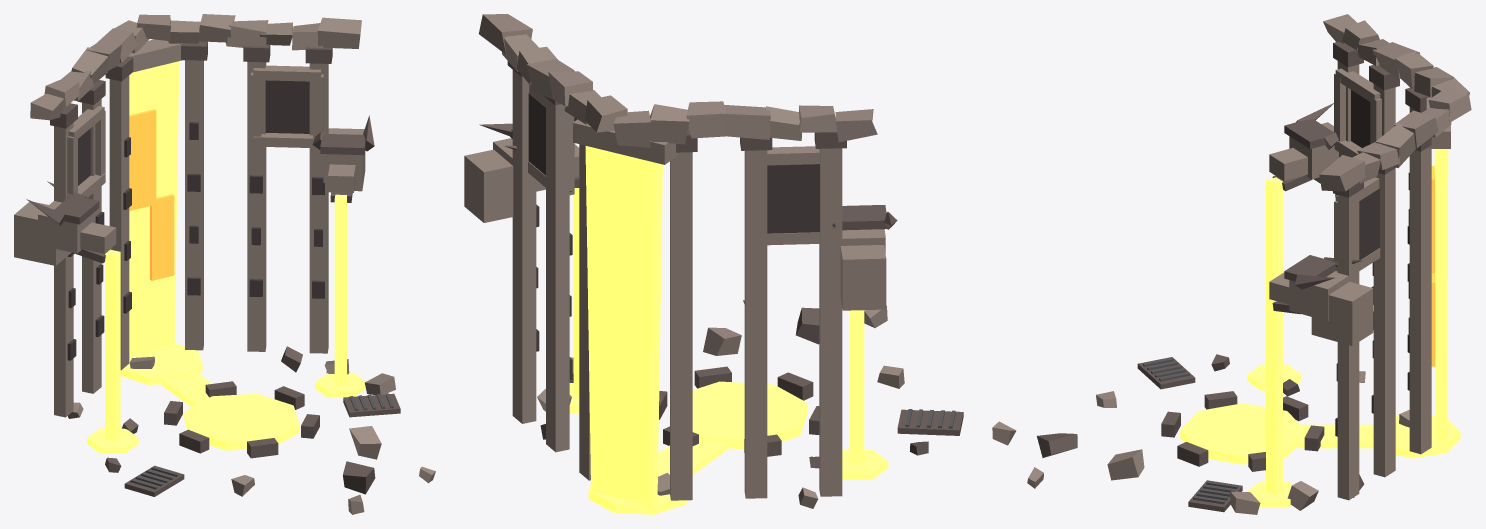
The model's file is plaza3_detail_kit.fbx.
The picture shows the model from 3 angles, left to right: view 1: azimuth 30°, elevation 25°; view 2: azimuth 150°, elevation 25°; view 3: azimuth 270°, elevation 25°; orthographic projection. The views are drawn at different scales.
Visible parts, largest first — view 1: kit_fall_core, kit_pool, kit_pillarR0, kit_pillarR1, kit_pillarL0, kit_pillarL2, kit_pillarR2, kit_pillarL1, kit_streamL, kit_fall_chunkA, kit_streamR, kit_nicheR_back (+41 smaller); view 2: kit_fall_core, kit_pillarL1, kit_pillarR1, kit_pillarL2, kit_pillarL0, kit_pillarR2, kit_pool, kit_nicheL_back, kit_dragonR_neck, kit_pillarR0, kit_dragonL_neck, kit_streamL (+29 smaller); view 3: kit_pillarR0, kit_pillarR1, kit_pillarR2, kit_pool, kit_fall_core, kit_streamR, kit_dragonR_neck, kit_streamL, kit_dragonR_skull, kit_fall_splash, kit_nicheR_back, kit_rimR6 (+26 smaller).
Boxes of the visible parts, bbox=[...] form: kit_fall_core: bbox=[129, 61, 179, 357]; kit_pool: bbox=[184, 393, 299, 450]; kit_pillarR0: bbox=[185, 60, 203, 350]; kit_pillarR1: bbox=[247, 62, 266, 351]; kit_pillarL0: bbox=[109, 75, 129, 370]; kit_pillarL2: bbox=[54, 123, 73, 417]; kit_pillarR2: bbox=[309, 63, 328, 353]; kit_pillarL1: bbox=[82, 99, 101, 393]; kit_streamL: bbox=[105, 249, 120, 441]; kit_fall_chunkA: bbox=[129, 109, 156, 210]; kit_streamR: bbox=[334, 194, 346, 384]; kit_nicheR_back: bbox=[265, 80, 309, 133]; kit_fall_core: bbox=[585, 146, 662, 505]; kit_pillarL1: bbox=[744, 150, 767, 498]; kit_pillarR1: bbox=[546, 98, 569, 452]; kit_pillarL2: bbox=[819, 148, 842, 496]; kit_pillarL0: bbox=[670, 152, 692, 500]; kit_pillarR2: bbox=[512, 70, 536, 423]; kit_pool: bbox=[669, 381, 807, 449]; kit_nicheL_back: bbox=[767, 164, 819, 233]; kit_dragonR_neck: bbox=[464, 149, 513, 222]; kit_pillarR0: bbox=[579, 144, 590, 480]; kit_dragonL_neck: bbox=[840, 245, 886, 310]; kit_streamL: bbox=[849, 310, 864, 464]; kit_pillarR0: bbox=[1409, 147, 1431, 454]; kit_pillarR1: bbox=[1373, 168, 1395, 477]; kit_pillarR2: bbox=[1337, 191, 1359, 500]; kit_pool: bbox=[1180, 403, 1305, 464]; kit_fall_core: bbox=[1434, 149, 1448, 444]; kit_streamR: bbox=[1266, 296, 1282, 494]; kit_dragonR_neck: bbox=[1311, 281, 1373, 345]; kit_streamL: bbox=[1266, 177, 1282, 297]; kit_dragonR_skull: bbox=[1289, 271, 1348, 321]; kit_fall_splash: bbox=[1368, 414, 1460, 458]; kit_nicheR_back: bbox=[1359, 188, 1379, 260]; kit_rimR6: bbox=[1319, 155, 1365, 191].
Size of the model in its own units: 1.56 by 1.45 by 1.76.
